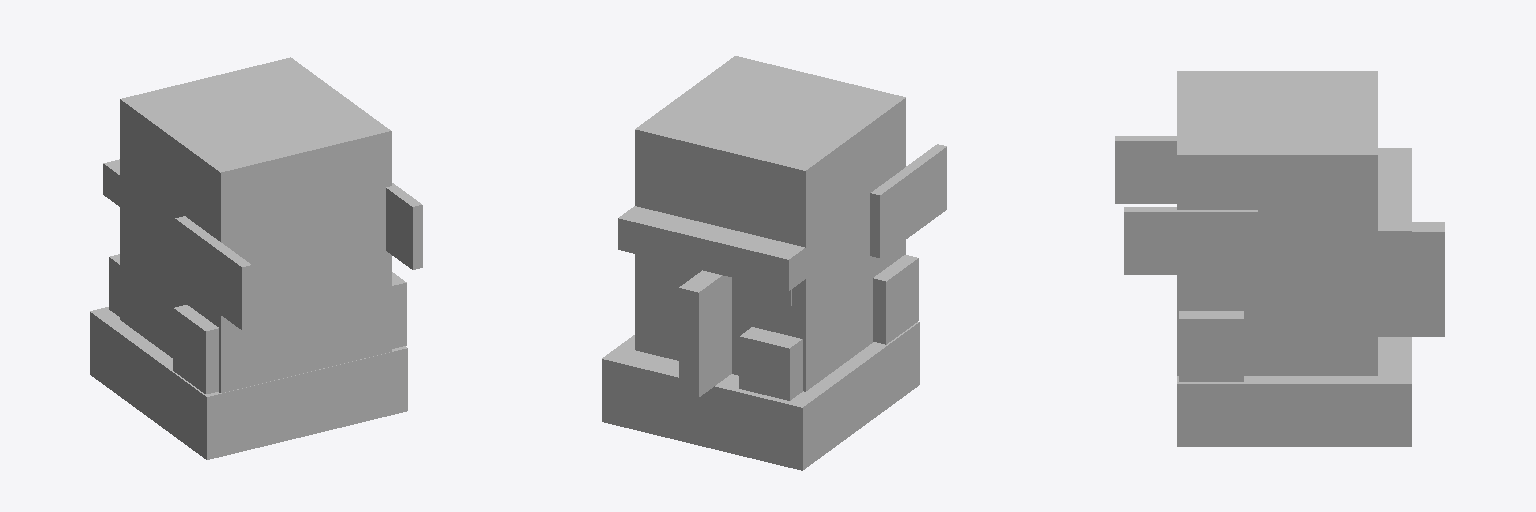
Rendered from ogrehead.obj.
3 renders of one model, left to right at view 1: azimuth 30°, elevation 25°; view 2: azimuth 150°, elevation 25°; view 3: azimuth 270°, elevation 25°, orthographic.
Parts seen in each view (by area): view 1: cube; view 2: cube; view 3: cube.
Boxes of the visible parts, <box> form: cube: <box>90,57,422,459</box>; cube: <box>602,56,946,470</box>; cube: <box>1115,71,1444,446</box>.
Size of the model in its own units: 1.25 by 1.69 by 1.78.